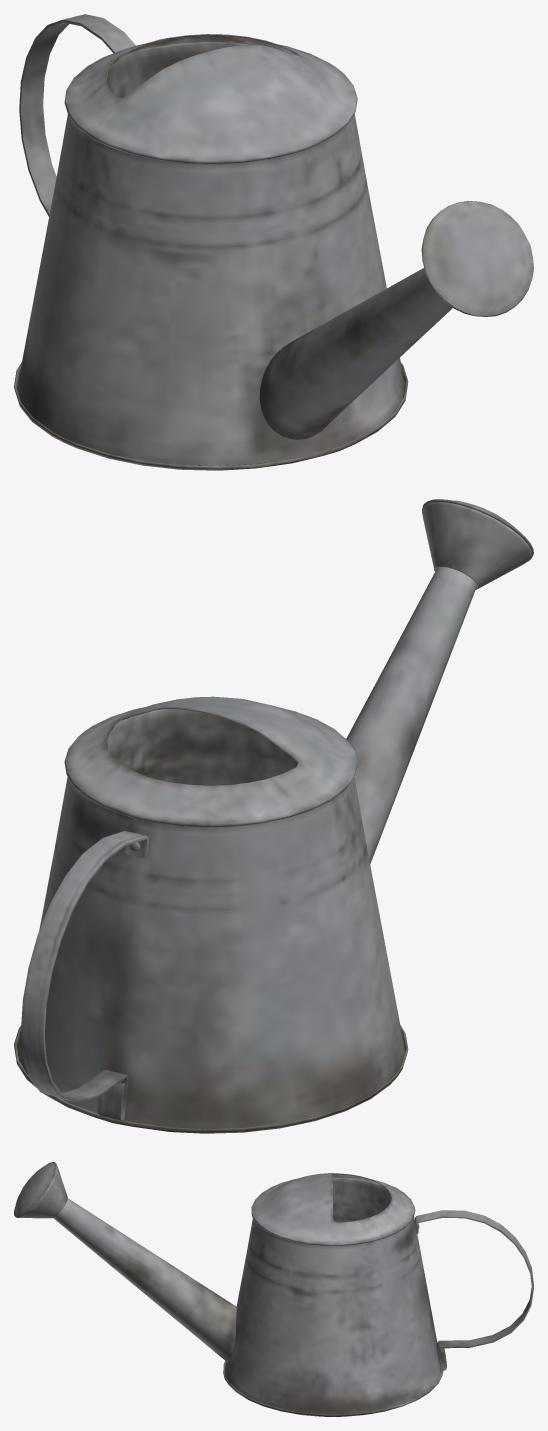
File: watering_can_metal_01.glb
3 views of the same model, one above another, from view 1: azimuth 30°, elevation 25°; view 2: azimuth 150°, elevation 25°; view 3: azimuth 270°, elevation 25° (orthographic). The views are drawn at different scales.
Visible parts, largest first — view 1: watering_can_metal_01; view 2: watering_can_metal_01; view 3: watering_can_metal_01.
Part boxes in pixels (x1=…): watering_can_metal_01: x1=14, y1=14, x2=533, y2=470; watering_can_metal_01: x1=14, y1=499, x2=533, y2=1133; watering_can_metal_01: x1=14, y1=1162, x2=533, y2=1416.
Size of the model in its own units: 0.1909 by 0.1967 by 0.4522.
Materials: 1 (1 with a texture image).
